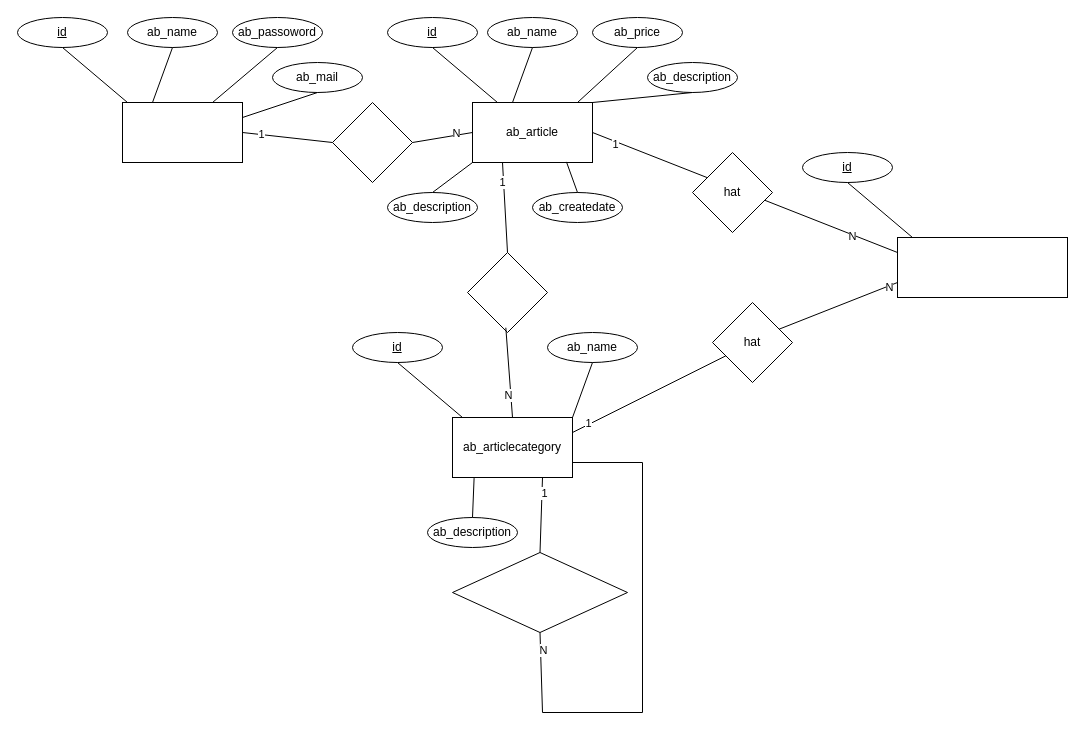
The diagram is 1085 pixels wide and 731 high, and some of its shapes have lost their labels. Here are the shapes that lost their labels. From the top down, the box of each, then its label:
(122, 102, 242, 162): ab_user
(332, 102, 412, 182): erstellt
(896, 236, 1068, 298): ab_article_has_articlecategory
(466, 252, 548, 332): gehört zu
(452, 552, 628, 632): ist Elternkategorie von
